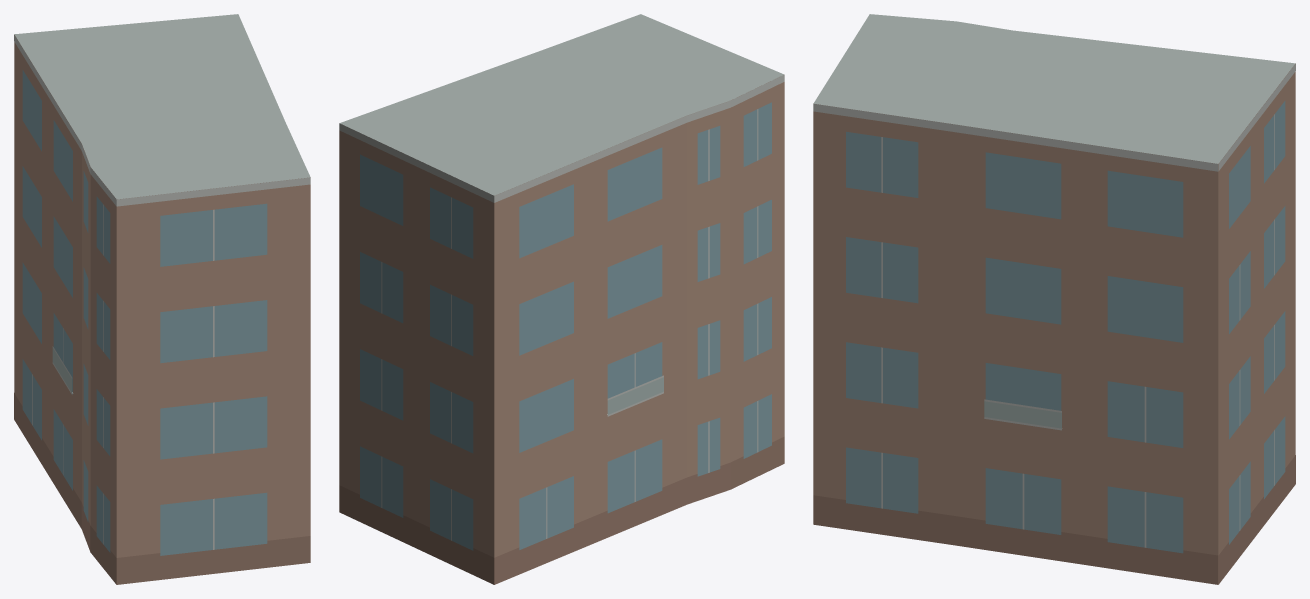
The model's file is survey-upis-32895796.glb.
3 views of the same model, side by side, from view 1: azimuth 30°, elevation 25°; view 2: azimuth 150°, elevation 25°; view 3: azimuth 270°, elevation 25° (orthographic). The views are drawn at different scales.
Visible parts, largest first — view 1: survey-upis-32895796.tmp; view 2: survey-upis-32895796.tmp; view 3: survey-upis-32895796.tmp.
Part boxes in pixels (<box>): survey-upis-32895796.tmp: <box>14,14,310,584</box>; survey-upis-32895796.tmp: <box>339,14,784,584</box>; survey-upis-32895796.tmp: <box>813,14,1295,584</box>.
Bounding box in the file's own units: 10.09 × 13.2 × 13.72.
